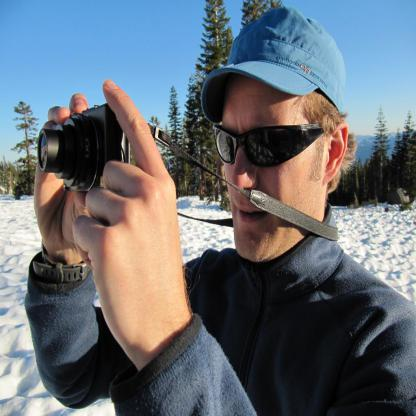Camera: (36, 104, 136, 200)
